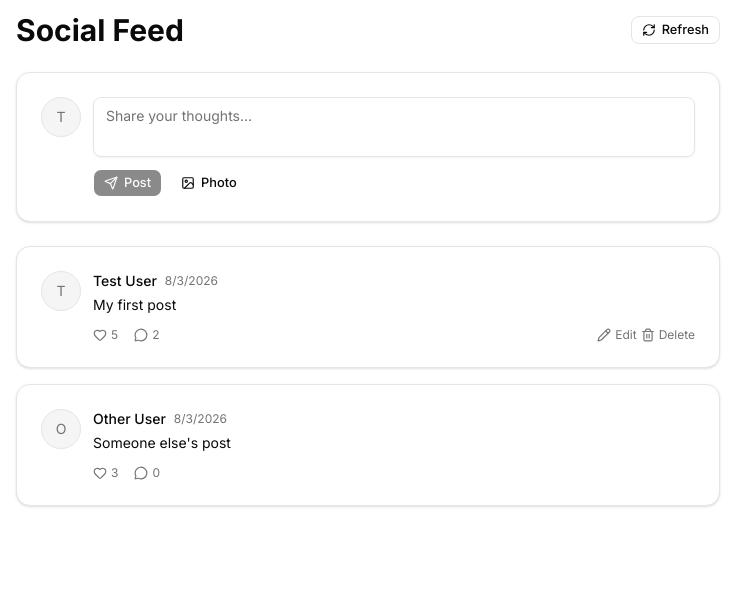
SocialPage › toggles edit mode when Edit button is clicked
Click the button with aria-label "Edit".
click(617, 335)  # box [597,327,637,343]
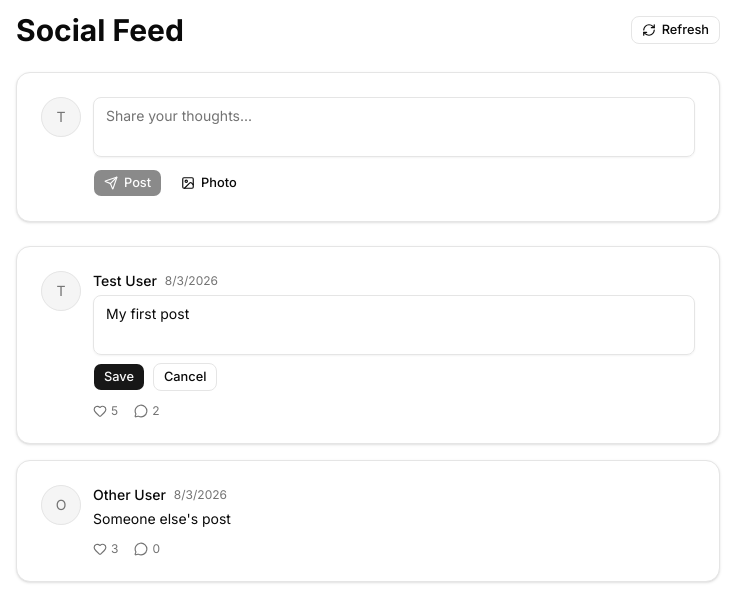
Result: the text "Save" is shown at [93,363,145,391]
Result: the text "Cancel" is shown at [153,363,218,391]
